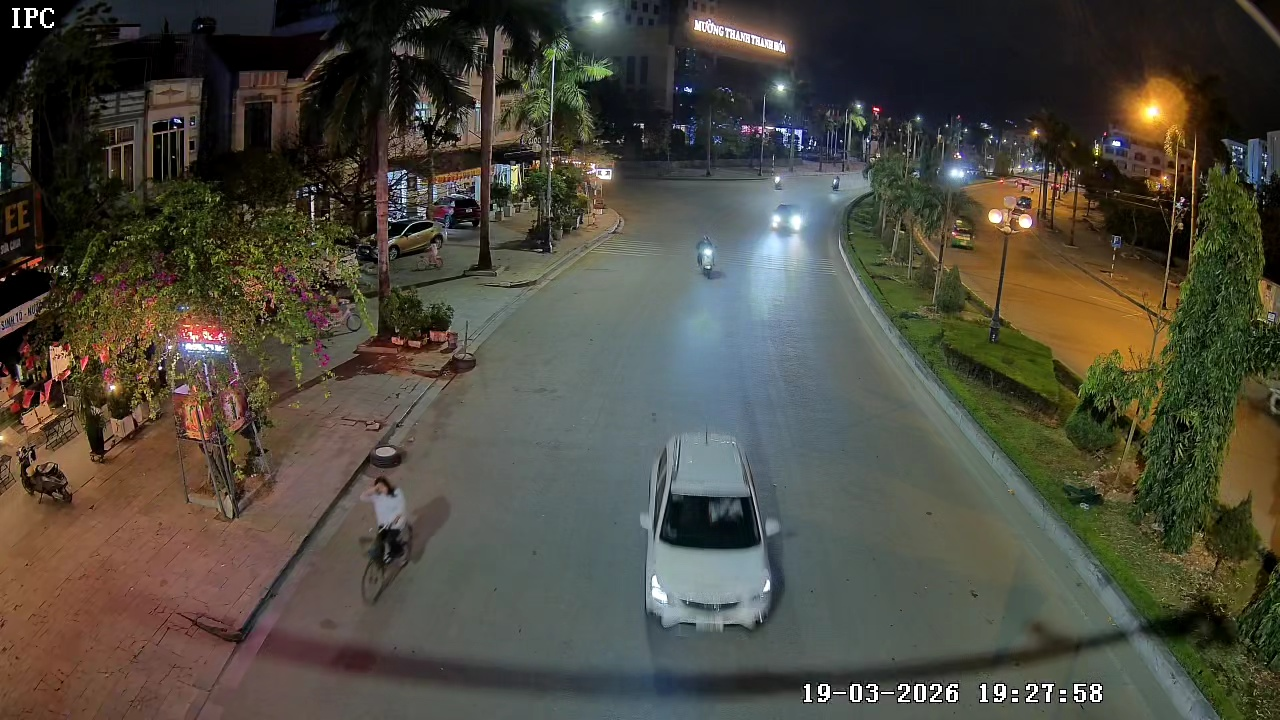bike: (357, 452, 452, 606)
car: (637, 431, 787, 673)
motorbike: (16, 439, 75, 506), (693, 233, 721, 280)
